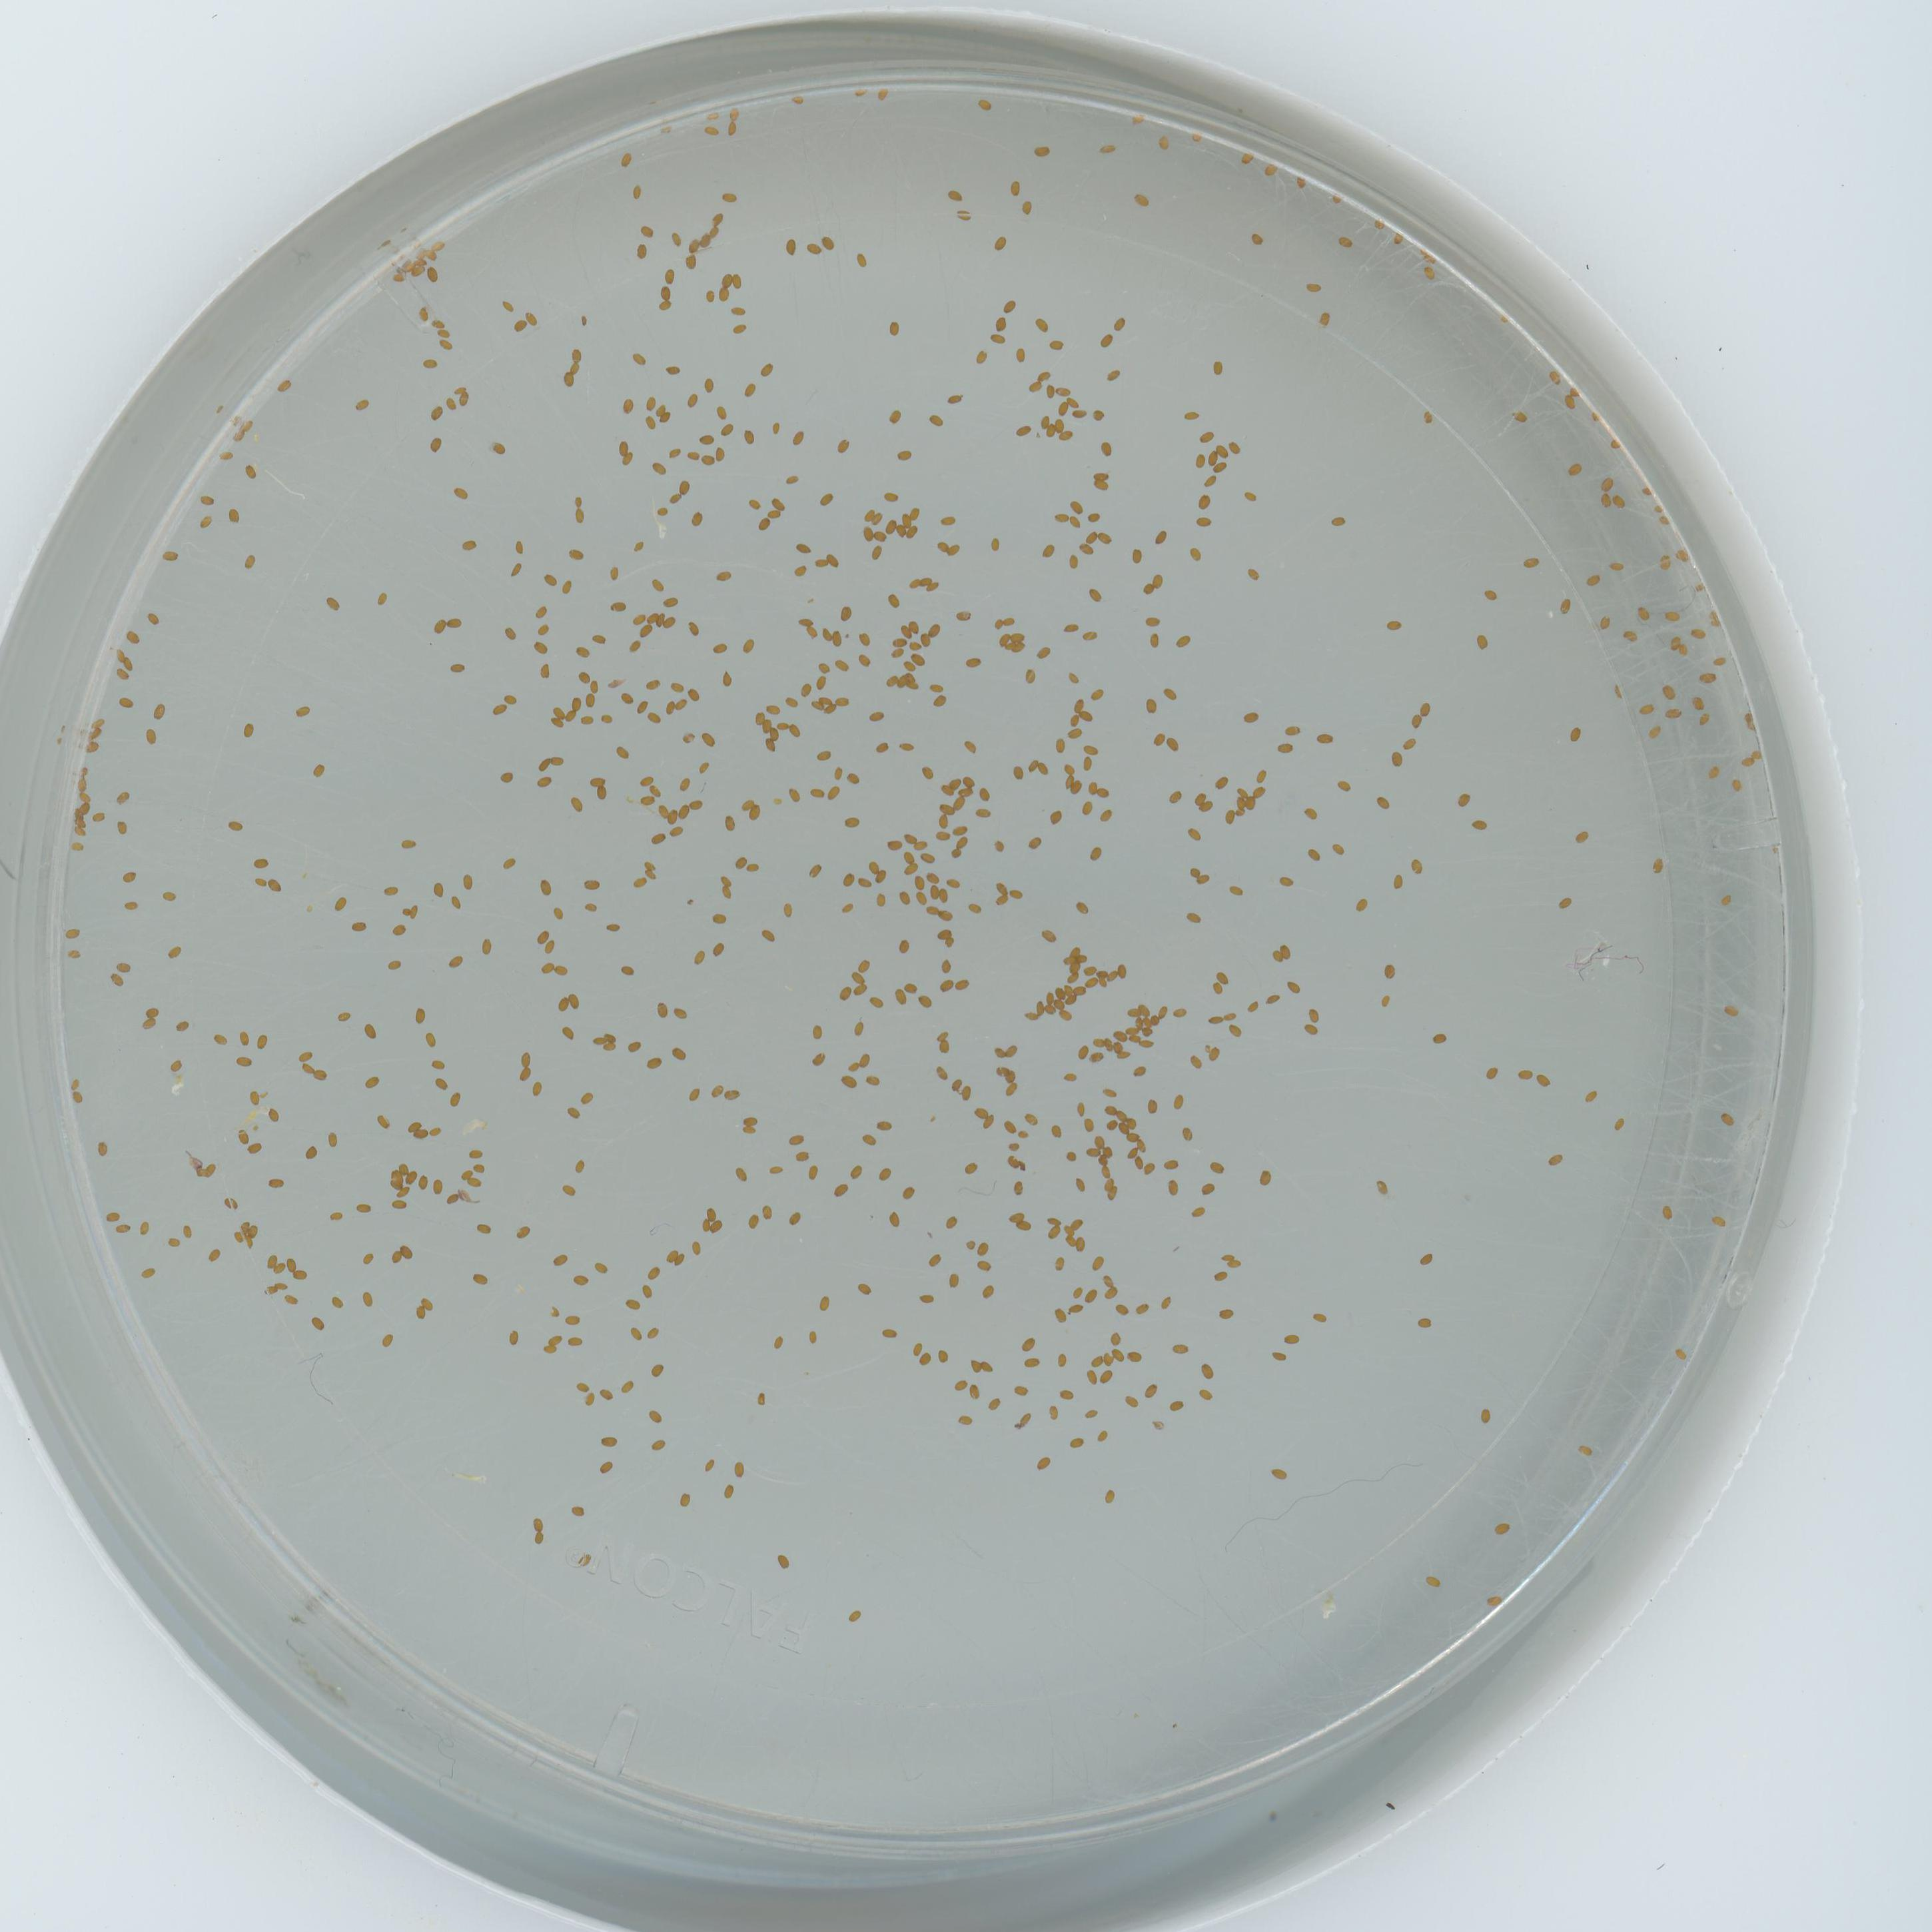seed: (1491, 1522, 1516, 1537), (1484, 1592, 1509, 1608), (398, 1242, 416, 1263), (1161, 1154, 1182, 1171), (1573, 1442, 1596, 1458), (149, 702, 168, 720), (837, 984, 855, 1003), (421, 1293, 439, 1313), (1178, 1125, 1196, 1145), (538, 878, 554, 899), (720, 186, 738, 203), (780, 901, 798, 918), (844, 812, 862, 830), (533, 639, 550, 656), (113, 787, 131, 805), (426, 435, 444, 453), (782, 239, 800, 257), (428, 617, 446, 635), (651, 458, 669, 476), (842, 1070, 860, 1088), (471, 1269, 488, 1286), (639, 1281, 656, 1299), (253, 1031, 271, 1049), (1109, 313, 1127, 331), (1031, 315, 1049, 333), (1194, 492, 1212, 510), (1389, 750, 1407, 768), (1019, 1334, 1037, 1352), (1198, 1361, 1215, 1378), (1546, 1148, 1564, 1166), (1070, 1175, 1088, 1192), (83, 741, 101, 759), (952, 823, 971, 839), (518, 1047, 534, 1067), (448, 1090, 464, 1109), (1095, 441, 1115, 456), (1224, 1021, 1244, 1037), (1164, 1178, 1180, 1198), (1382, 961, 1398, 980), (1100, 1284, 1120, 1300), (1141, 614, 1162, 628), (380, 959, 403, 971), (899, 740, 916, 755), (711, 640, 729, 656), (621, 396, 637, 414), (897, 446, 915, 462), (421, 354, 439, 370), (382, 883, 400, 899), (639, 221, 656, 237), (874, 740, 892, 755), (225, 506, 241, 524), (807, 863, 824, 879), (633, 242, 651, 258), (883, 488, 901, 504), (701, 377, 718, 393), (124, 628, 140, 646), (816, 747, 833, 763), (568, 796, 586, 812), (837, 605, 855, 621), (945, 876, 962, 892), (458, 874, 474, 892), (425, 265, 442, 281), (731, 318, 748, 334), (835, 437, 853, 453), (918, 764, 936, 780), (886, 837, 904, 853), (701, 731, 718, 747), (688, 510, 706, 525), (936, 812, 952, 830), (796, 540, 814, 556), (803, 241, 821, 257), (662, 267, 679, 283), (350, 918, 368, 934), (784, 695, 801, 711), (718, 671, 736, 686), (510, 540, 527, 556), (934, 828, 952, 844), (791, 428, 807, 446), (479, 938, 495, 955), (589, 771, 607, 787), (821, 234, 837, 251), (617, 690, 635, 706), (667, 446, 685, 462), (536, 775, 554, 791), (718, 421, 736, 437), (685, 448, 702, 464), (936, 800, 954, 816), (617, 152, 635, 168), (552, 1249, 570, 1265), (264, 1106, 281, 1122), (925, 1251, 943, 1267), (805, 1162, 823, 1178), (646, 1263, 663, 1279), (833, 1180, 851, 1196), (876, 1116, 893, 1132), (646, 1407, 663, 1422), (653, 1001, 671, 1017), (310, 1315, 327, 1330), (354, 1198, 372, 1214), (862, 1129, 879, 1145), (849, 1164, 867, 1180), (858, 1049, 876, 1065), (649, 1362, 667, 1378), (598, 1385, 616, 1401), (391, 1196, 409, 1212), (566, 1332, 584, 1348), (812, 1049, 830, 1065), (775, 1553, 793, 1569), (731, 1460, 747, 1477), (934, 1346, 952, 1362), (789, 1129, 807, 1145), (625, 1295, 642, 1311), (375, 1111, 391, 1129), (745, 1212, 763, 1228), (235, 1028, 253, 1044), (954, 977, 971, 993), (246, 1088, 264, 1104), (559, 1180, 577, 1196), (387, 1168, 403, 1185), (140, 1014, 157, 1030), (1408, 858, 1424, 876), (1148, 731, 1166, 747), (973, 349, 991, 364), (1039, 543, 1056, 559), (1283, 724, 1300, 740), (1014, 421, 1031, 437), (1046, 810, 1063, 826), (1035, 644, 1053, 660), (1062, 619, 1079, 635), (1212, 775, 1230, 791), (1306, 847, 1323, 863), (1008, 764, 1026, 780), (1373, 794, 1391, 810), (1315, 731, 1332, 747), (1079, 741, 1097, 757), (1007, 179, 1024, 195), (1077, 801, 1095, 817), (991, 235, 1008, 251), (1039, 925, 1056, 941), (1189, 453, 1207, 469), (1086, 846, 1104, 862), (1085, 587, 1102, 603), (1568, 725, 1585, 741), (1208, 359, 1226, 375), (1049, 738, 1067, 754), (1184, 908, 1201, 924), (1007, 885, 1023, 902), (1001, 610, 1017, 628), (1277, 943, 1295, 959), (1093, 786, 1111, 801), (1522, 554, 1539, 570), (1122, 1392, 1139, 1408), (1189, 1203, 1207, 1219), (1483, 1063, 1500, 1079), (1044, 1405, 1062, 1421), (1198, 1180, 1215, 1196), (980, 1281, 996, 1299), (1088, 1254, 1106, 1270), (1270, 1465, 1288, 1481), (1001, 1116, 1017, 1134), (975, 1256, 993, 1272), (985, 1396, 1003, 1412), (1067, 1433, 1085, 1449), (1008, 1180, 1026, 1196), (1254, 1169, 1272, 1185), (968, 1382, 984, 1399), (1060, 1069, 1077, 1085), (1207, 1157, 1224, 1173), (1056, 1385, 1074, 1401), (1187, 1053, 1203, 1070), (962, 1161, 980, 1177), (1070, 1100, 1088, 1116), (1023, 1109, 1040, 1125), (1169, 1093, 1187, 1109), (1123, 1346, 1141, 1362), (1079, 1115, 1097, 1131), (1143, 1097, 1161, 1113), (1111, 1299, 1129, 1315), (1005, 1040, 1023, 1056), (1086, 1352, 1104, 1368), (1003, 1138, 1021, 1154), (1424, 1573, 1442, 1589), (1665, 704, 1683, 720), (1688, 695, 1706, 711), (1739, 708, 1757, 724), (1698, 669, 1716, 685), (1622, 628, 1638, 646), (1557, 598, 1575, 614), (1585, 573, 1603, 589), (1608, 557, 1626, 573), (1656, 556, 1674, 571), (1691, 580, 1709, 596), (1658, 515, 1675, 531), (1649, 501, 1667, 517), (1599, 476, 1617, 492), (1419, 409, 1437, 425), (1568, 382, 1585, 398), (1419, 265, 1437, 281), (1369, 216, 1387, 232), (1330, 191, 1348, 207), (1238, 150, 1254, 168), (1081, 628, 1099, 644), (957, 207, 973, 225), (1154, 136, 1171, 152), (1129, 110, 1146, 126), (874, 87, 892, 103), (545, 1304, 563, 1320), (704, 122, 722, 138), (851, 87, 869, 103), (223, 1196, 241, 1212), (202, 1162, 219, 1178), (235, 1131, 253, 1146), (354, 396, 372, 412), (414, 306, 432, 322), (430, 235, 448, 251), (391, 272, 409, 288), (409, 244, 426, 260), (88, 713, 106, 729), (108, 648, 126, 663), (936, 927, 955, 941), (248, 1221, 262, 1240), (1384, 617, 1403, 632), (1065, 1300, 1085, 1315), (870, 708, 886, 724), (840, 872, 856, 888), (888, 407, 904, 423), (669, 678, 685, 694), (895, 890, 911, 906), (584, 878, 600, 893), (929, 412, 945, 428), (699, 432, 715, 448), (428, 405, 444, 421), (929, 679, 945, 695), (856, 653, 872, 669), (809, 784, 824, 800), (678, 775, 694, 791), (651, 832, 667, 847), (391, 922, 407, 938), (651, 577, 667, 593), (430, 883, 446, 899), (711, 909, 727, 925), (886, 320, 902, 336), (143, 610, 159, 626), (198, 490, 214, 506), (759, 361, 775, 377), (462, 538, 478, 554), (635, 699, 651, 715), (639, 771, 655, 787), (685, 391, 701, 407), (732, 855, 748, 870), (122, 897, 138, 913), (161, 888, 177, 904), (502, 690, 518, 706), (683, 253, 699, 269), (888, 593, 904, 609), (241, 554, 257, 570), (711, 939, 727, 955), (819, 490, 835, 506), (717, 566, 732, 582), (626, 639, 642, 655), (242, 462, 258, 478), (890, 646, 906, 662), (142, 729, 157, 745), (931, 694, 947, 709), (534, 929, 550, 945), (499, 770, 515, 786), (741, 428, 757, 444), (559, 579, 575, 594), (709, 211, 725, 226), (743, 380, 759, 396), (639, 794, 655, 810), (607, 918, 623, 934), (761, 925, 777, 941), (333, 895, 349, 911), (294, 704, 310, 720), (724, 816, 740, 832), (251, 855, 267, 870), (614, 745, 630, 761), (117, 694, 133, 709), (826, 786, 842, 801), (310, 763, 326, 778), (568, 545, 584, 561), (642, 414, 658, 430), (373, 591, 389, 607), (324, 594, 340, 610), (448, 895, 464, 911), (869, 545, 885, 561), (678, 478, 694, 494), (511, 317, 527, 333), (835, 656, 851, 672), (594, 786, 610, 801), (686, 621, 702, 637), (656, 283, 672, 299), (856, 632, 872, 648), (663, 594, 679, 610), (543, 571, 559, 587), (437, 338, 453, 354), (702, 287, 718, 303), (915, 890, 931, 906), (692, 948, 708, 964), (536, 663, 552, 679), (656, 410, 672, 426), (713, 446, 729, 462), (686, 686, 702, 702), (787, 724, 803, 740), (855, 253, 870, 269), (499, 297, 515, 313), (872, 527, 888, 543), (929, 621, 945, 637), (632, 350, 648, 366), (575, 642, 591, 658), (632, 538, 648, 554), (922, 849, 938, 865), (543, 939, 559, 955), (584, 694, 600, 709), (630, 184, 646, 200), (786, 471, 801, 487), (64, 925, 80, 941), (655, 502, 671, 518), (725, 119, 741, 134), (303, 1143, 318, 1159), (364, 1072, 380, 1088), (602, 1431, 617, 1447), (430, 1177, 446, 1192), (515, 1223, 531, 1238), (593, 1258, 609, 1274), (878, 1166, 893, 1182), (888, 1210, 904, 1226), (568, 991, 584, 1007), (211, 1028, 226, 1044), (173, 1016, 189, 1031), (235, 1051, 251, 1067), (297, 1049, 313, 1065), (901, 1185, 916, 1201), (570, 1504, 586, 1520), (628, 1325, 644, 1341), (104, 1207, 120, 1223), (672, 1046, 688, 1062), (267, 1175, 283, 1191), (246, 1139, 262, 1155), (934, 1063, 950, 1079), (428, 1054, 444, 1070), (410, 1007, 426, 1023), (433, 1074, 449, 1090), (566, 1104, 582, 1120), (734, 1166, 750, 1182), (651, 1437, 667, 1453), (561, 1026, 577, 1042), (324, 1131, 340, 1146), (359, 1290, 375, 1306), (678, 1491, 694, 1507), (916, 993, 932, 1008), (688, 1238, 704, 1254), (770, 1161, 786, 1177), (579, 1088, 594, 1104), (686, 1085, 702, 1100), (709, 1081, 725, 1097), (467, 1145, 483, 1161), (329, 1207, 345, 1223), (143, 1003, 159, 1019), (867, 1069, 883, 1085), (628, 1037, 644, 1053), (115, 1219, 131, 1235), (938, 977, 954, 993), (817, 1295, 833, 1311), (704, 1205, 720, 1221), (918, 1290, 934, 1306), (134, 1217, 150, 1233), (571, 1157, 587, 1173), (313, 1065, 329, 1081), (725, 1085, 741, 1100), (663, 1247, 679, 1263), (1012, 347, 1028, 363), (1251, 786, 1267, 801), (1417, 701, 1433, 717), (1401, 736, 1417, 752), (993, 315, 1008, 331), (1329, 842, 1345, 858), (1353, 897, 1369, 913), (1389, 874, 1405, 890), (1408, 715, 1424, 731), (1166, 736, 1182, 752), (1161, 686, 1177, 702), (1185, 545, 1201, 561), (1336, 777, 1352, 793), (1152, 529, 1168, 545), (1242, 708, 1258, 724), (1001, 297, 1017, 313), (1069, 497, 1085, 513), (1474, 633, 1490, 649), (1277, 874, 1293, 890), (1194, 513, 1210, 529), (1026, 833, 1042, 849), (1146, 632, 1162, 648), (1079, 755, 1095, 771), (1069, 697, 1085, 713), (1244, 566, 1260, 582), (1228, 439, 1244, 455), (1035, 364, 1051, 380), (1129, 548, 1145, 564), (966, 655, 982, 671), (1185, 828, 1201, 844), (1141, 699, 1157, 715), (1306, 278, 1322, 294), (1330, 513, 1346, 529), (1247, 228, 1263, 244), (1198, 800, 1214, 816), (1223, 809, 1238, 824), (975, 805, 991, 821), (1150, 571, 1166, 587), (977, 787, 993, 803), (991, 839, 1007, 855), (1242, 488, 1258, 504), (987, 536, 1003, 552), (1185, 865, 1201, 881), (1196, 872, 1212, 888), (1017, 198, 1033, 214), (1023, 757, 1039, 773), (1070, 780, 1086, 796), (1612, 492, 1628, 508), (1171, 1339, 1187, 1355), (1246, 998, 1261, 1014), (1049, 1306, 1065, 1322), (1141, 1382, 1157, 1398), (1518, 1063, 1534, 1079), (1053, 1352, 1069, 1368), (1284, 978, 1300, 994), (1171, 1003, 1187, 1019), (971, 1104, 987, 1120), (1536, 1070, 1552, 1086), (1306, 1007, 1322, 1023), (1083, 1369, 1099, 1385), (1003, 1081, 1019, 1097), (1049, 1254, 1065, 1270), (1047, 1122, 1063, 1138), (1033, 1454, 1049, 1470), (1302, 1021, 1318, 1037), (1012, 1382, 1028, 1398), (1131, 1062, 1146, 1077), (1217, 1304, 1233, 1320), (1417, 1315, 1433, 1330), (980, 1357, 996, 1373), (1419, 1249, 1435, 1265), (975, 1240, 991, 1256), (1044, 1210, 1060, 1226), (1003, 1152, 1019, 1168), (1083, 1286, 1099, 1302), (1100, 1083, 1116, 1099), (1067, 1283, 1083, 1299), (1583, 1086, 1599, 1102), (1090, 1031, 1106, 1047), (1017, 1410, 1033, 1426), (1099, 1272, 1115, 1288), (1610, 1115, 1626, 1131), (1062, 1231, 1077, 1247), (1477, 1407, 1493, 1422), (1672, 1346, 1688, 1362), (1711, 1212, 1727, 1228), (1661, 1205, 1677, 1221), (1373, 1180, 1389, 1196), (1723, 1003, 1739, 1019), (1716, 893, 1732, 909), (1706, 766, 1721, 782), (1730, 778, 1746, 794), (1741, 754, 1757, 770), (1647, 724, 1663, 740), (1640, 701, 1656, 717), (1610, 683, 1626, 699), (1660, 685, 1675, 701), (1713, 653, 1729, 669), (1677, 644, 1693, 660), (1665, 635, 1681, 651), (1598, 616, 1614, 632), (1675, 548, 1691, 564), (1706, 605, 1721, 621), (1691, 628, 1707, 644), (1665, 609, 1681, 625), (1637, 607, 1652, 623), (1640, 483, 1656, 499), (1598, 494, 1614, 510), (1568, 462, 1583, 478), (1608, 437, 1624, 453), (1591, 409, 1606, 425), (1513, 410, 1529, 426), (1546, 370, 1562, 386), (1560, 395, 1576, 410), (1316, 311, 1332, 327), (1424, 251, 1440, 267), (1338, 234, 1353, 249), (1387, 230, 1403, 246), (1293, 173, 1309, 189), (1263, 159, 1279, 175), (1187, 127, 1203, 143), (1099, 140, 1115, 156), (1134, 193, 1150, 209), (977, 97, 993, 113), (579, 1552, 594, 1568), (755, 1391, 771, 1407), (603, 1028, 619, 1044), (681, 729, 697, 745), (702, 110, 718, 126), (724, 104, 740, 120), (791, 92, 807, 108), (218, 446, 234, 462), (67, 1077, 83, 1093), (65, 947, 81, 962), (69, 840, 85, 856), (73, 826, 88, 842), (122, 656, 138, 672), (755, 518, 773, 533), (747, 495, 764, 510), (120, 870, 138, 885), (448, 955, 465, 970), (701, 453, 718, 467), (911, 876, 929, 890), (947, 541, 964, 556), (713, 405, 731, 419), (740, 639, 757, 653), (644, 678, 662, 692), (793, 564, 810, 579), (534, 757, 552, 771), (451, 485, 469, 499), (833, 694, 851, 708), (786, 787, 803, 801), (902, 830, 920, 844), (633, 876, 651, 890), (766, 702, 784, 717), (860, 525, 874, 543), (548, 754, 566, 768), (731, 272, 745, 290), (858, 957, 872, 975), (770, 495, 787, 510), (939, 906, 954, 924), (832, 628, 846, 646), (908, 506, 925, 520), (909, 653, 927, 667), (334, 1008, 352, 1023), (363, 1024, 380, 1039), (761, 1203, 775, 1221), (327, 1295, 345, 1309), (619, 1378, 637, 1392), (916, 1352, 934, 1366), (646, 1054, 663, 1069), (573, 1272, 591, 1286), (405, 1118, 423, 1132), (529, 1079, 543, 1097), (465, 1175, 483, 1189), (471, 1159, 488, 1173), (1470, 817, 1488, 832), (1070, 407, 1088, 421), (1173, 633, 1191, 648), (1060, 763, 1077, 777), (966, 901, 984, 915), (991, 893, 1008, 908), (1201, 474, 1219, 488), (1276, 741, 1293, 755), (1090, 467, 1108, 481), (1065, 727, 1083, 741), (1008, 628, 1026, 642), (1166, 1398, 1184, 1412), (1044, 1224, 1062, 1238), (1021, 1355, 1039, 1369), (1132, 1300, 1150, 1315), (1076, 1042, 1090, 1060), (1214, 970, 1231, 984), (1102, 1116, 1120, 1131), (1060, 1148, 1077, 1162), (1695, 713, 1713, 727), (1744, 720, 1762, 734), (230, 430, 248, 444), (237, 418, 255, 432), (274, 380, 292, 395), (115, 667, 133, 681), (161, 550, 180, 563), (954, 609, 973, 621), (895, 987, 908, 1007), (113, 961, 133, 973), (991, 612, 1003, 632), (1281, 1332, 1300, 1345), (1217, 1249, 1237, 1261), (533, 603, 548, 617), (731, 303, 747, 317), (858, 876, 874, 890), (770, 421, 786, 435), (897, 938, 911, 954), (591, 632, 607, 646), (502, 856, 518, 870), (113, 821, 129, 835), (830, 766, 846, 780), (947, 188, 962, 202), (630, 612, 646, 626), (584, 901, 600, 915), (690, 796, 706, 810), (667, 492, 683, 506), (241, 724, 257, 738), (267, 879, 283, 893), (449, 660, 465, 674), (502, 626, 518, 640), (570, 695, 584, 711), (610, 598, 626, 612), (817, 662, 833, 676), (642, 396, 658, 410), (196, 513, 212, 527), (939, 513, 955, 527), (492, 702, 508, 717), (550, 906, 566, 920), (934, 538, 950, 552), (925, 870, 941, 885), (798, 681, 814, 695), (508, 563, 524, 577), (166, 945, 182, 959), (226, 819, 242, 833), (847, 771, 863, 786), (448, 614, 462, 630), (874, 893, 890, 908), (90, 810, 106, 824), (534, 623, 550, 637), (902, 851, 918, 865), (525, 310, 540, 326), (253, 874, 267, 890), (913, 839, 929, 853), (947, 391, 962, 405), (550, 704, 566, 718), (695, 761, 711, 775), (570, 345, 584, 361), (665, 363, 681, 377), (435, 327, 451, 341), (805, 626, 821, 640), (561, 372, 575, 387), (444, 396, 458, 412), (400, 837, 416, 851), (685, 239, 701, 253), (874, 870, 890, 885), (747, 807, 763, 821), (571, 508, 586, 524), (952, 796, 966, 812), (676, 805, 690, 821), (656, 299, 672, 313), (763, 740, 778, 754), (717, 287, 732, 301), (752, 711, 768, 725), (587, 679, 603, 694), (939, 784, 955, 798), (948, 847, 964, 862), (720, 271, 734, 287), (862, 508, 876, 524), (901, 510, 915, 525), (653, 803, 669, 817), (718, 874, 734, 888), (840, 901, 856, 915), (453, 382, 467, 398), (564, 1311, 580, 1325), (722, 1484, 738, 1499), (168, 1058, 184, 1072), (421, 1031, 437, 1046), (299, 1060, 315, 1074), (869, 994, 885, 1008), (883, 1325, 899, 1339), (810, 1024, 826, 1039), (474, 1219, 490, 1233), (909, 1339, 924, 1355), (140, 1263, 154, 1279), (575, 1378, 591, 1392), (794, 1148, 810, 1162), (444, 1191, 460, 1205), (179, 1223, 195, 1237), (205, 1249, 221, 1263), (531, 1516, 547, 1530), (904, 980, 920, 994), (945, 1272, 961, 1286), (709, 1219, 725, 1233), (853, 1021, 869, 1035), (948, 1076, 962, 1092), (771, 1334, 786, 1350), (165, 1233, 180, 1247), (943, 1214, 957, 1230), (292, 1269, 308, 1283), (600, 1460, 616, 1474), (379, 1332, 395, 1346), (395, 1182, 410, 1196), (531, 1530, 545, 1546), (504, 1330, 520, 1345), (646, 1325, 662, 1339), (361, 1249, 375, 1265), (787, 1210, 803, 1224), (387, 1247, 402, 1263), (847, 1608, 863, 1622), (458, 1166, 474, 1180), (743, 1111, 759, 1125), (418, 1173, 432, 1189), (856, 1281, 872, 1295), (264, 1253, 278, 1269), (541, 1341, 557, 1355), (846, 1058, 862, 1072), (230, 1228, 244, 1244), (272, 1279, 288, 1293), (96, 1139, 110, 1155), (807, 1329, 823, 1343), (989, 333, 1005, 347), (1077, 543, 1093, 557), (1083, 529, 1097, 545), (1099, 333, 1115, 347), (1483, 587, 1499, 602), (1053, 510, 1069, 524), (1166, 789, 1182, 803), (1047, 336, 1063, 350), (1198, 428, 1214, 442), (1182, 407, 1198, 421), (1083, 510, 1099, 524), (1228, 885, 1244, 899), (1456, 793, 1472, 807), (1557, 895, 1573, 909), (1063, 672, 1079, 686), (1063, 556, 1079, 570), (1099, 809, 1113, 824), (1104, 366, 1120, 380), (1088, 688, 1104, 702), (1074, 899, 1088, 915), (1067, 515, 1083, 529), (1302, 805, 1316, 821), (1090, 407, 1106, 421), (1139, 582, 1155, 596), (1095, 531, 1111, 545), (1053, 402, 1069, 416), (1575, 830, 1591, 844), (1054, 384, 1070, 398), (1269, 948, 1284, 962), (1253, 770, 1269, 784), (996, 633, 1012, 648), (993, 881, 1007, 897), (1214, 442, 1228, 458), (961, 740, 977, 754), (1079, 709, 1093, 725), (1106, 1330, 1122, 1345), (1212, 1267, 1228, 1281), (1058, 1007, 1074, 1021), (1311, 1309, 1327, 1323), (1270, 1348, 1286, 1362), (1378, 993, 1394, 1007), (1099, 1369, 1115, 1384), (1263, 991, 1279, 1005), (1157, 1295, 1173, 1309), (1100, 1490, 1116, 1504), (1074, 1235, 1088, 1251), (1205, 1047, 1221, 1062), (1093, 1430, 1109, 1444), (1431, 1028, 1447, 1042), (1207, 1012, 1223, 1026), (1081, 1407, 1097, 1421), (1208, 980, 1224, 994), (968, 1357, 982, 1373), (1109, 1346, 1125, 1361), (1069, 1214, 1083, 1230), (1125, 1115, 1139, 1131), (1116, 962, 1131, 978), (1115, 1047, 1131, 1062), (1223, 1007, 1238, 1021), (1102, 1100, 1116, 1116), (1139, 1024, 1155, 1039), (1720, 1111, 1736, 1125), (1019, 1012, 1040, 1023), (1649, 858, 1665, 872), (1750, 747, 1766, 761), (1709, 617, 1725, 632), (1088, 1051, 1104, 1065), (740, 1125, 755, 1139), (430, 318, 446, 333), (425, 248, 441, 262), (74, 766, 90, 780), (88, 727, 103, 743), (901, 660, 918, 672), (456, 389, 469, 407), (1212, 462, 1230, 474), (1092, 479, 1109, 492), (1008, 1210, 1026, 1223), (1014, 1219, 1031, 1231), (1083, 975, 1100, 987), (1123, 1031, 1141, 1044), (1123, 1005, 1141, 1017), (938, 1039, 950, 1056), (1207, 449, 1219, 467), (962, 1083, 973, 1102), (1224, 1260, 1244, 1270), (906, 524, 920, 538), (492, 441, 506, 455), (867, 862, 881, 876), (662, 701, 676, 715), (892, 635, 906, 649), (577, 669, 591, 683), (747, 862, 761, 876), (669, 824, 683, 839), (669, 232, 683, 246), (600, 711, 614, 725), (609, 566, 623, 580), (582, 713, 596, 727), (909, 619, 924, 633), (814, 556, 828, 570), (676, 699, 690, 713), (665, 810, 679, 824), (925, 580, 939, 594), (409, 904, 423, 918), (918, 632, 932, 646), (564, 709, 579, 724), (740, 798, 754, 812), (655, 403, 669, 418), (899, 625, 913, 639), (674, 1007, 688, 1021), (554, 996, 568, 1010), (855, 982, 869, 996), (582, 1392, 596, 1407), (428, 1122, 442, 1136), (283, 1256, 297, 1270), (952, 1376, 966, 1391), (110, 973, 124, 987), (672, 1251, 686, 1265), (941, 957, 955, 971), (702, 1458, 717, 1472), (396, 1159, 410, 1173), (1040, 384, 1054, 398), (1244, 796, 1258, 810), (1191, 791, 1205, 805), (1024, 379, 1039, 393), (1198, 1387, 1212, 1401), (982, 1115, 996, 1129), (1141, 1161, 1155, 1175), (1016, 1125, 1030, 1139), (1090, 1132, 1104, 1146), (925, 904, 939, 918), (959, 1414, 973, 1428), (1233, 794, 1247, 809), (264, 1284, 278, 1299), (237, 1219, 251, 1233), (639, 625, 655, 637), (798, 616, 814, 628), (663, 616, 679, 628), (616, 439, 628, 455), (648, 711, 663, 724), (904, 863, 920, 876), (885, 674, 897, 690), (826, 554, 842, 566), (885, 520, 897, 536), (548, 718, 564, 731), (761, 718, 773, 734), (718, 888, 734, 901), (948, 775, 961, 791), (955, 835, 971, 847), (648, 786, 663, 798), (281, 1293, 297, 1306), (621, 966, 637, 978), (412, 1127, 428, 1139), (414, 1304, 426, 1320), (851, 971, 867, 984), (71, 1088, 83, 1104), (547, 1332, 563, 1345), (540, 962, 556, 975), (602, 1042, 617, 1054), (1086, 780, 1099, 796), (1063, 993, 1079, 1005), (1111, 1026, 1127, 1039), (1116, 1118, 1129, 1134), (1125, 1145, 1138, 1161), (1123, 1131, 1139, 1143), (1123, 1023, 1139, 1035), (1007, 1069, 1019, 1085), (1069, 945, 1081, 961), (1063, 982, 1076, 998), (918, 575, 934, 587), (938, 888, 950, 904), (934, 1028, 950, 1040), (1067, 962, 1083, 975), (410, 265, 426, 278), (80, 801, 92, 817), (766, 508, 784, 518), (821, 704, 839, 715), (550, 966, 568, 977), (957, 786, 975, 796), (1031, 147, 1053, 156), (1102, 1350, 1113, 1368), (642, 870, 660, 881), (817, 695, 835, 706), (816, 676, 828, 690), (777, 718, 791, 731), (895, 524, 908, 538), (872, 511, 886, 524), (821, 626, 833, 640), (400, 904, 412, 918), (571, 492, 584, 506), (908, 575, 920, 589), (570, 361, 582, 375), (768, 727, 782, 740), (699, 1217, 711, 1231), (407, 1168, 419, 1182), (1051, 419, 1065, 432), (1058, 428, 1072, 441), (1233, 787, 1247, 800), (1037, 761, 1049, 775), (1065, 395, 1079, 407), (1083, 1145, 1097, 1157), (1136, 1138, 1148, 1152), (1132, 1155, 1145, 1169), (1136, 1001, 1150, 1014), (1115, 1108, 1127, 1122), (1033, 1001, 1047, 1014), (1104, 1039, 1116, 1053), (996, 1063, 1010, 1076), (993, 1047, 1007, 1060), (1005, 640, 1017, 655), (708, 226, 722, 239), (1063, 1224, 1077, 1237), (1067, 971, 1081, 984), (906, 679, 920, 692), (73, 809, 85, 823), (76, 778, 88, 793), (78, 791, 92, 803), (929, 885, 939, 901), (623, 451, 633, 467), (591, 1035, 607, 1046), (1012, 642, 1028, 653), (1109, 1187, 1120, 1203), (1108, 970, 1118, 985), (1072, 985, 1088, 996), (701, 232, 711, 248), (1134, 1016, 1145, 1031), (73, 819, 88, 830), (518, 1067, 531, 1079), (1039, 416, 1051, 428), (1067, 715, 1079, 727), (1042, 425, 1054, 437), (1150, 1014, 1162, 1026), (1053, 985, 1065, 998), (1021, 1161, 1033, 1173), (1113, 1040, 1125, 1053), (648, 612, 660, 625), (909, 642, 924, 653), (812, 697, 823, 711), (271, 1263, 285, 1274), (966, 1237, 977, 1251), (1157, 1005, 1168, 1019), (1104, 1178, 1115, 1192), (1044, 1003, 1054, 1017), (904, 672, 918, 683), (1235, 807, 1249, 817), (656, 612, 665, 628), (642, 860, 658, 869), (1079, 966, 1095, 975), (1139, 1040, 1155, 1049), (1076, 955, 1092, 964), (1060, 957, 1076, 966), (1065, 775, 1074, 791), (897, 674, 906, 690), (964, 775, 977, 786), (1100, 1145, 1113, 1155), (1099, 1155, 1109, 1168), (1095, 968, 1108, 978), (242, 1237, 253, 1249), (1100, 1168, 1115, 1177), (1099, 977, 1109, 987), (1143, 1017, 1154, 1028), (1056, 998, 1065, 1010), (1046, 991, 1054, 1003), (945, 938, 957, 947)
